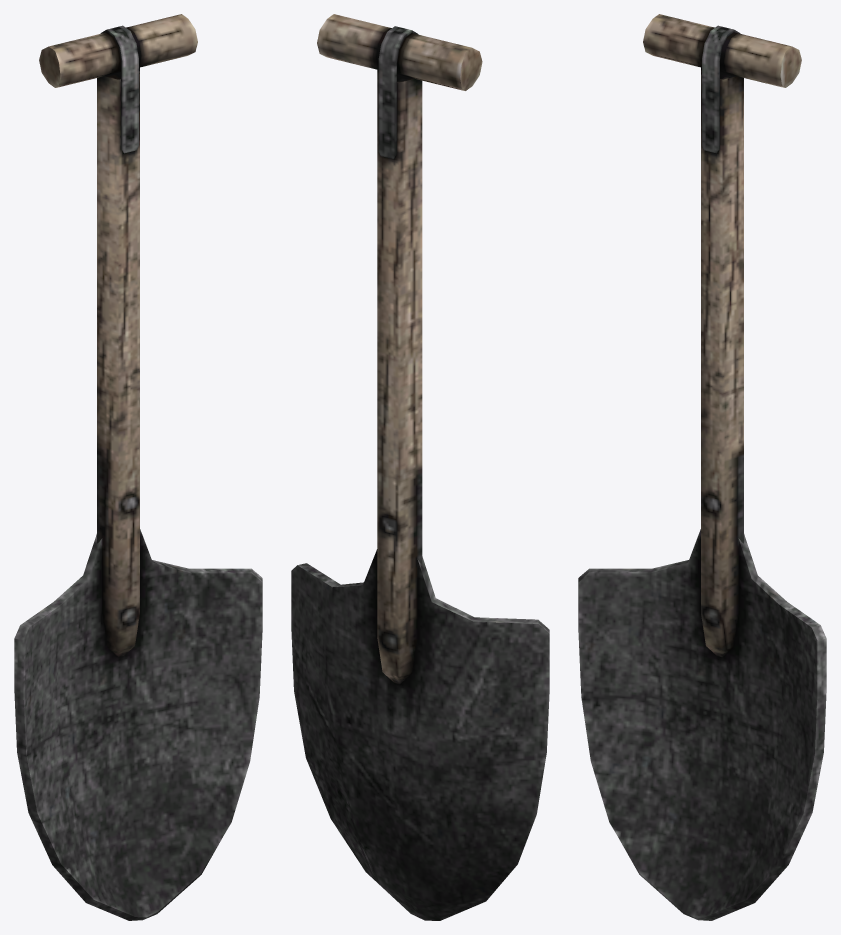
The model's file is shovel.dae.
The picture shows the model from 3 angles, left to right: view 1: azimuth 30°, elevation 25°; view 2: azimuth 150°, elevation 25°; view 3: azimuth 330°, elevation 25°; orthographic projection. The views are drawn at different scales.
Visible parts, largest first — view 1: shovel_mesh; view 2: shovel_mesh; view 3: shovel_mesh.
Part boxes in pixels (box(x1,y1,x2,y2)): shovel_mesh: box(14, 14, 262, 920); shovel_mesh: box(291, 14, 549, 920); shovel_mesh: box(578, 14, 826, 920).
Size of the model in its own units: 0.3273 by 1.1 by 0.0937.
